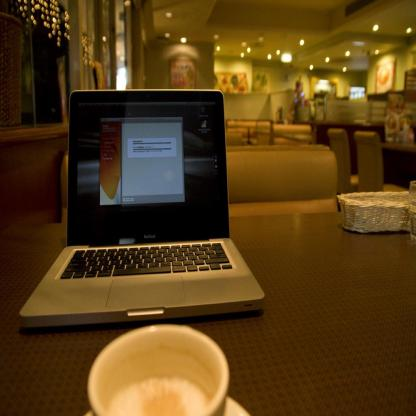board: (20, 89, 267, 331)
